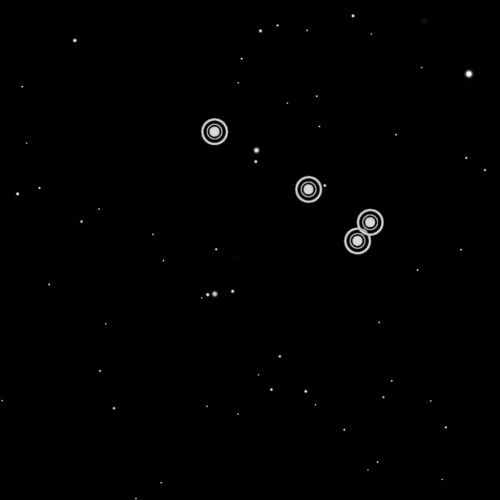sagitta: (195, 111, 388, 259)
